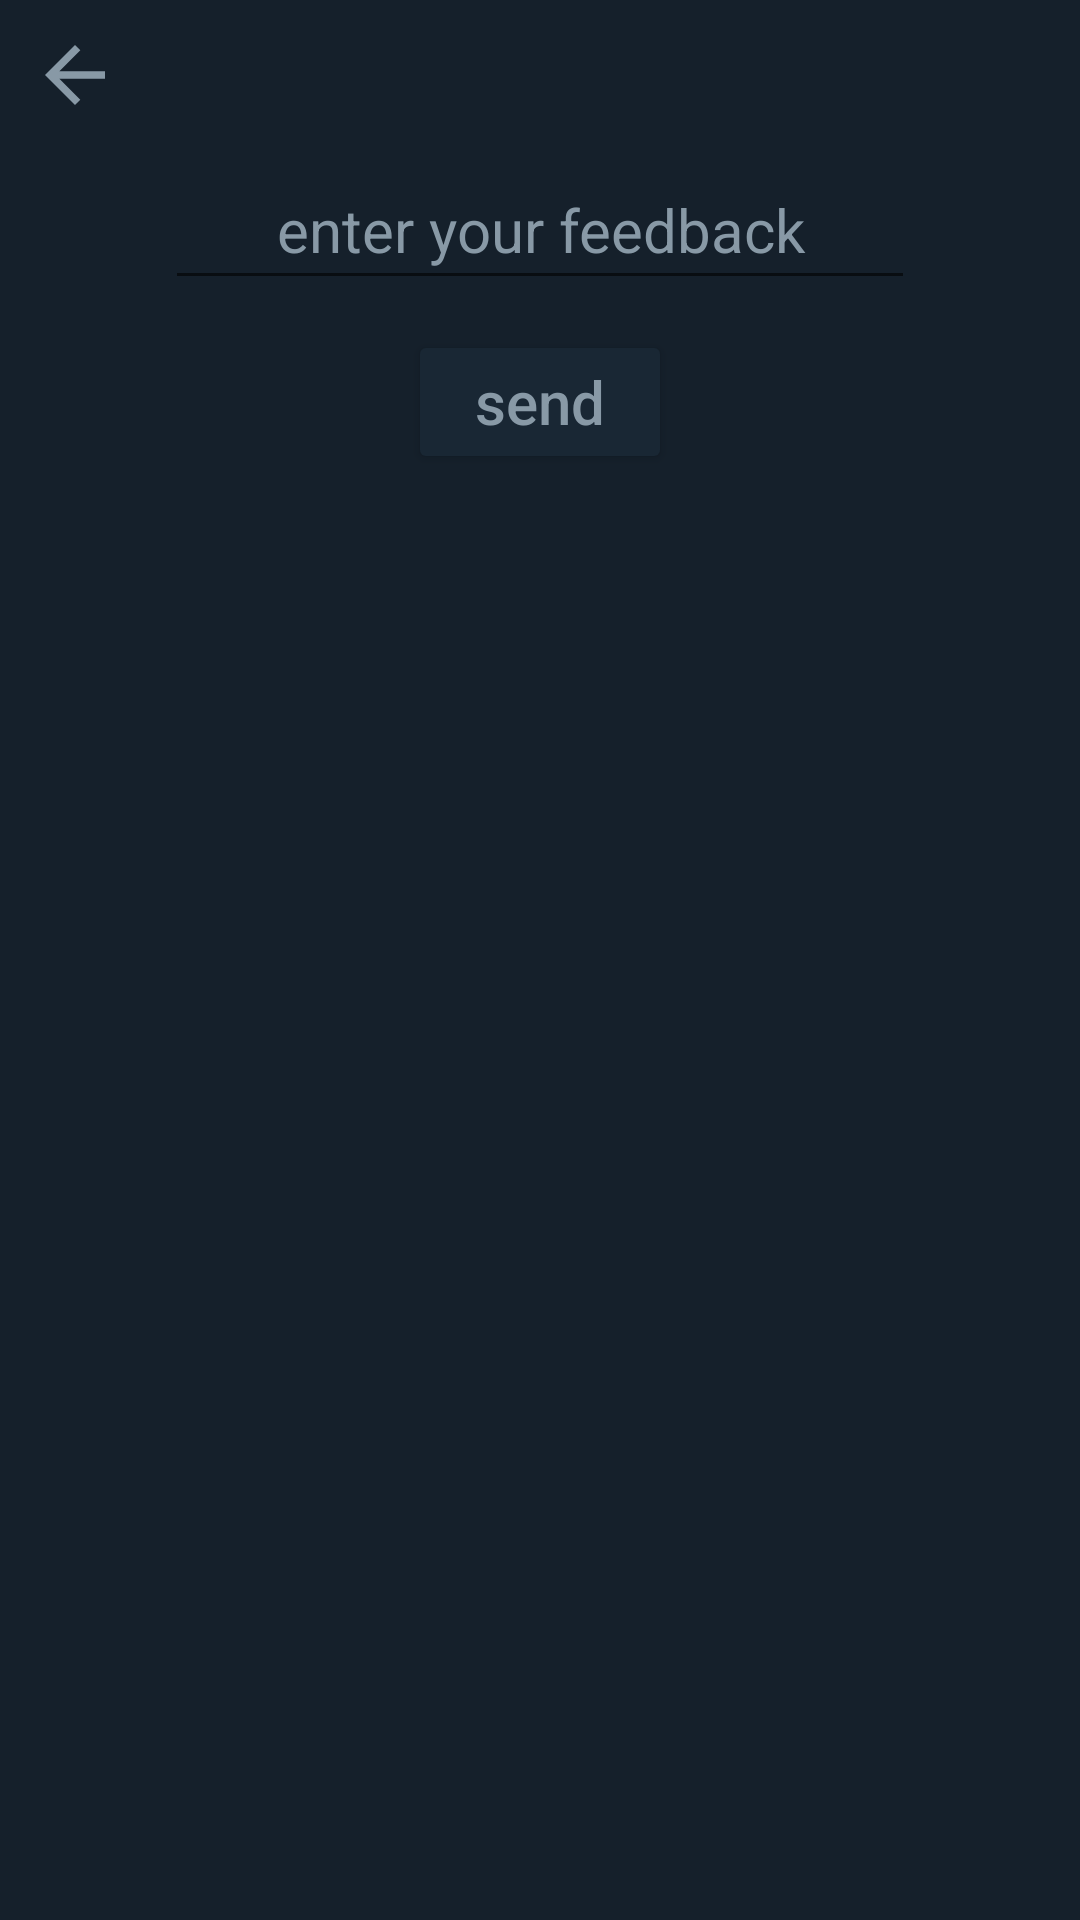

Named icons in this screenshot (1080×1920) and their centers, (x,y):
arrow back: (75,75)
